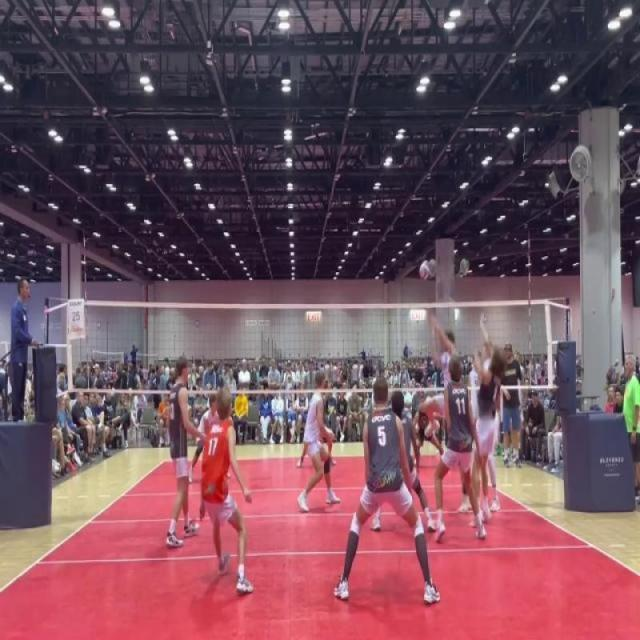volleyball: (418, 260, 430, 282)
